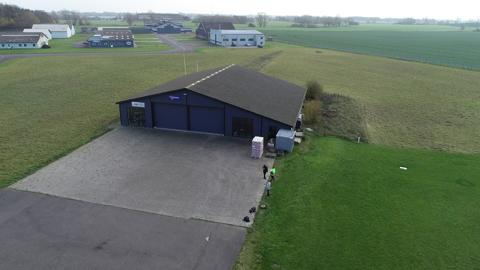RockwoolPallet: (251, 136, 264, 158)
